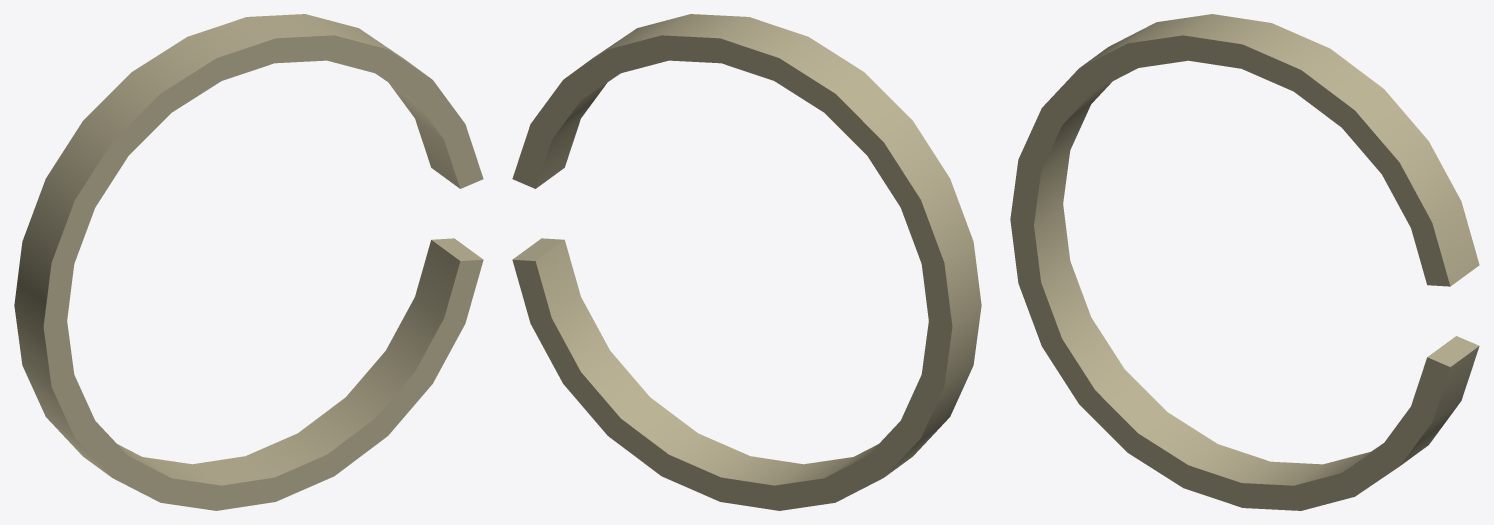
File: bracelet.fbx
The picture shows the model from 3 angles, left to right: view 1: azimuth 30°, elevation 25°; view 2: azimuth 150°, elevation 25°; view 3: azimuth 330°, elevation 25°; orthographic projection.
Visible parts, largest first — view 1: pCube1; view 2: pCube1; view 3: pCube1.
Boxes of the visible parts, box(x1,y1,x2,y2) form: pCube1: box(14, 14, 483, 510); pCube1: box(512, 14, 981, 510); pCube1: box(1010, 14, 1479, 510).
Bounding box in the file's own units: 6.49 × 6.54 × 0.746.
